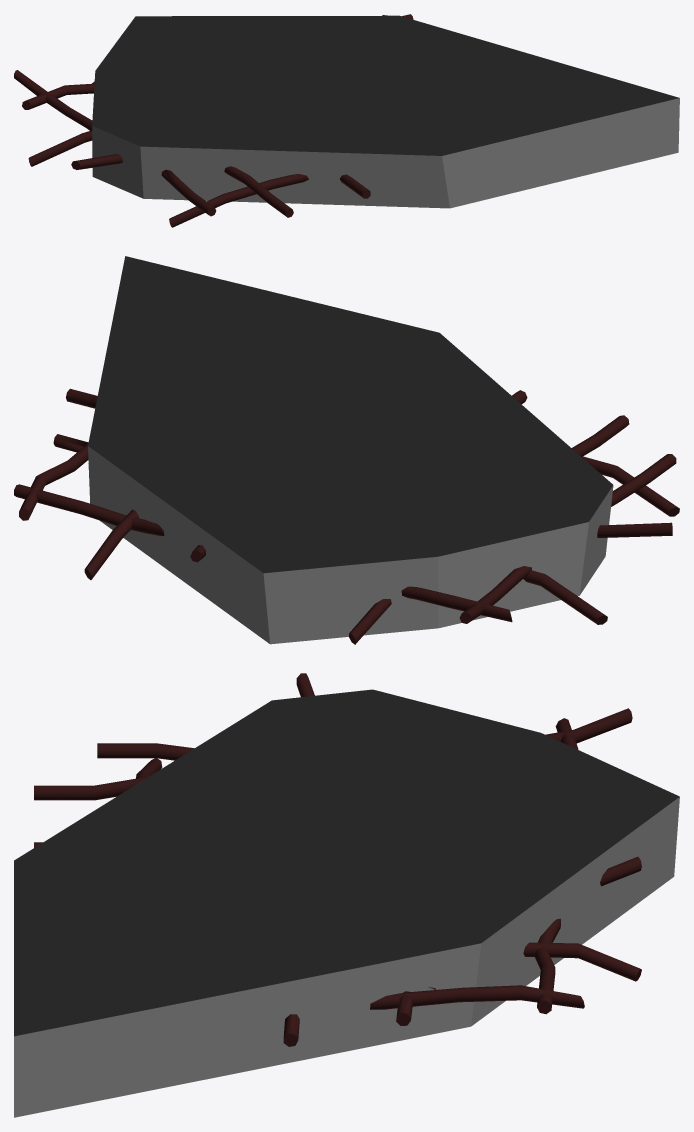
File: P_SolDebrisTest1.FBX
3 views of the same model, one above another, from view 1: azimuth 30°, elevation 25°; view 2: azimuth 150°, elevation 25°; view 3: azimuth 270°, elevation 25° (orthographic). The views are drawn at different scales.
Visible parts, largest first — view 1: Box012_Part_012; view 2: Box012_Part_012; view 3: Box012_Part_012.
Part boxes in pixels (x1,y1,x2,y2): Box012_Part_012: (14, 14, 679, 227); Box012_Part_012: (14, 256, 679, 644); Box012_Part_012: (14, 673, 679, 1117).
Bounding box in the file's own units: 295 × 220 × 30.
